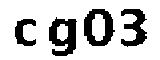0: (82, 7, 115, 48)
4: (121, 7, 148, 48)
c: (14, 17, 39, 49)
g: (47, 14, 79, 60)
